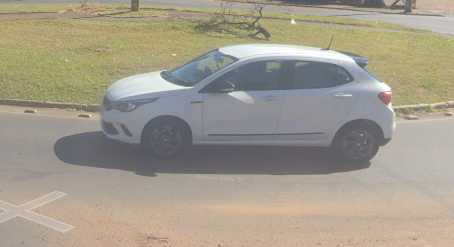car: (95, 31, 398, 174)
